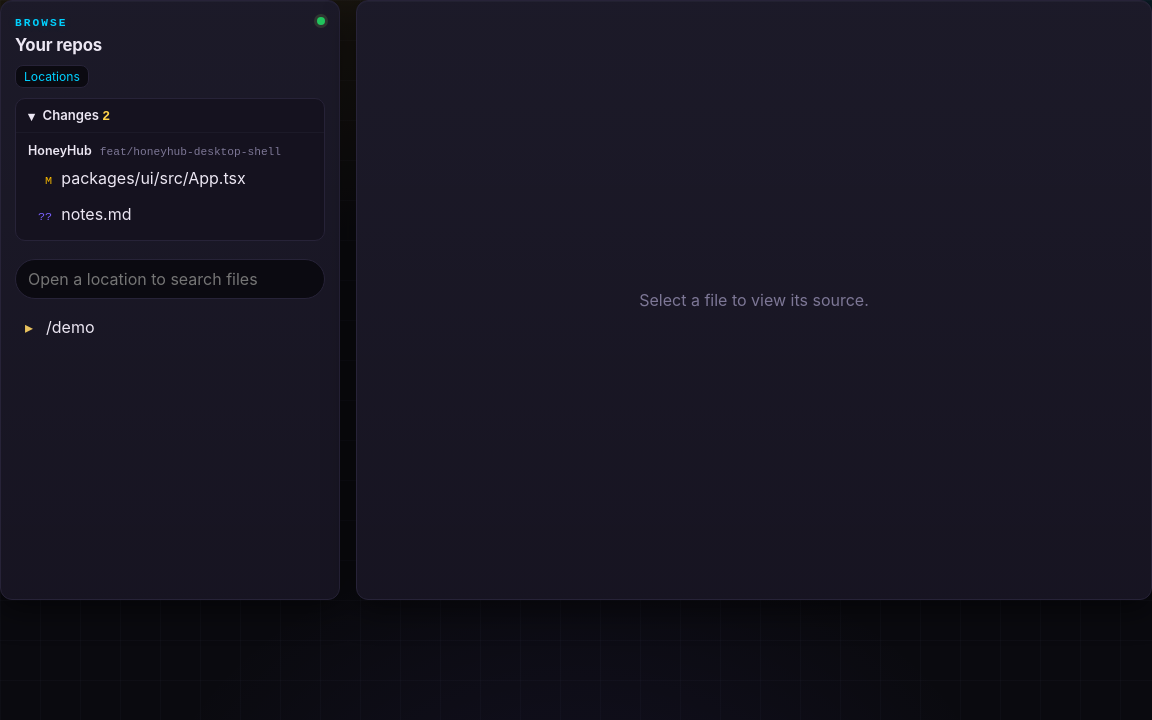
BrowseView › lists directory entries and opens a file from one
Note: Open the location, then a child folder (renderDirEntries: a dir button + a file button).
Click the button "▸ /demo".
click(70, 327)  # box [15,309,325,345]
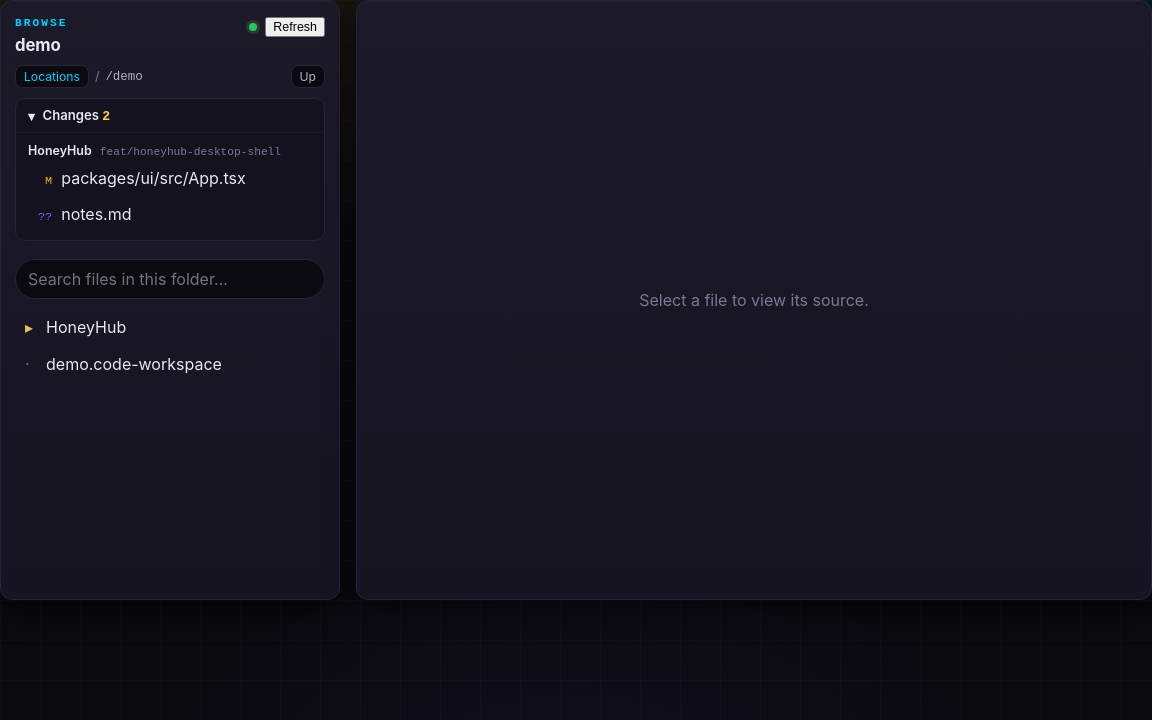
Click the button "▸ HoneyHub".
click(86, 327)  # box [15,309,325,345]
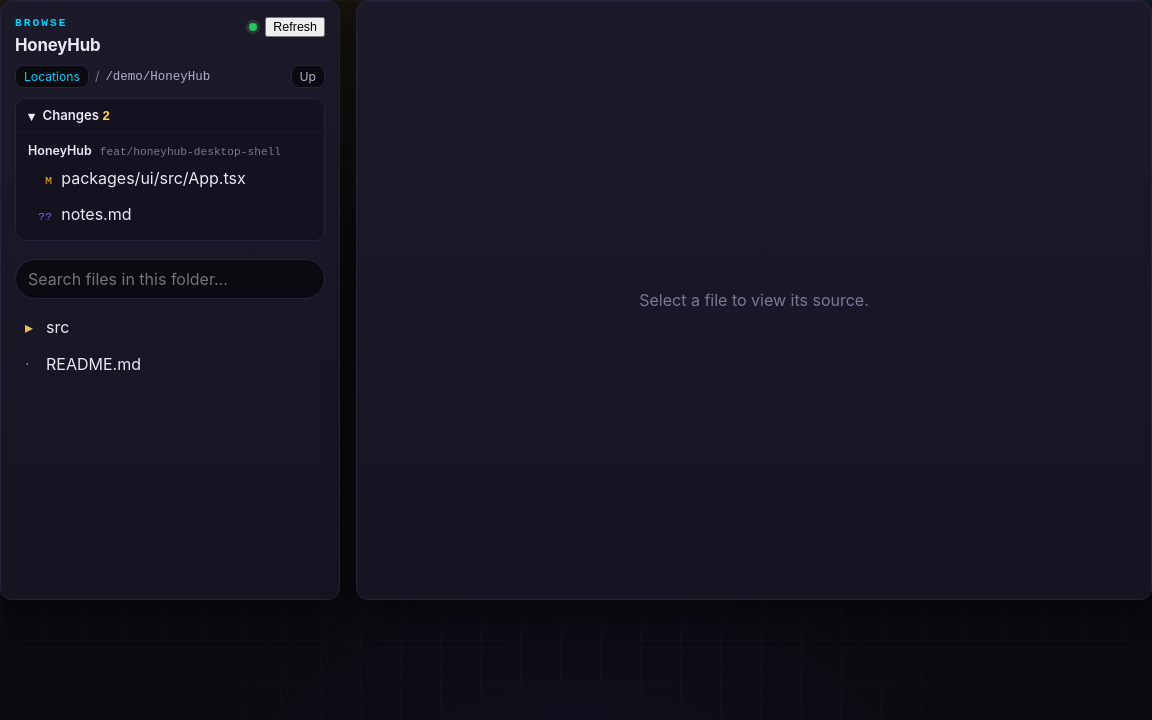
Now the button "· README.md" is shown
Note: Clicking a file entry routes through openFile and the viewer shows its content.
Click the button "· README.md".
click(94, 364)  # box [15,346,325,382]
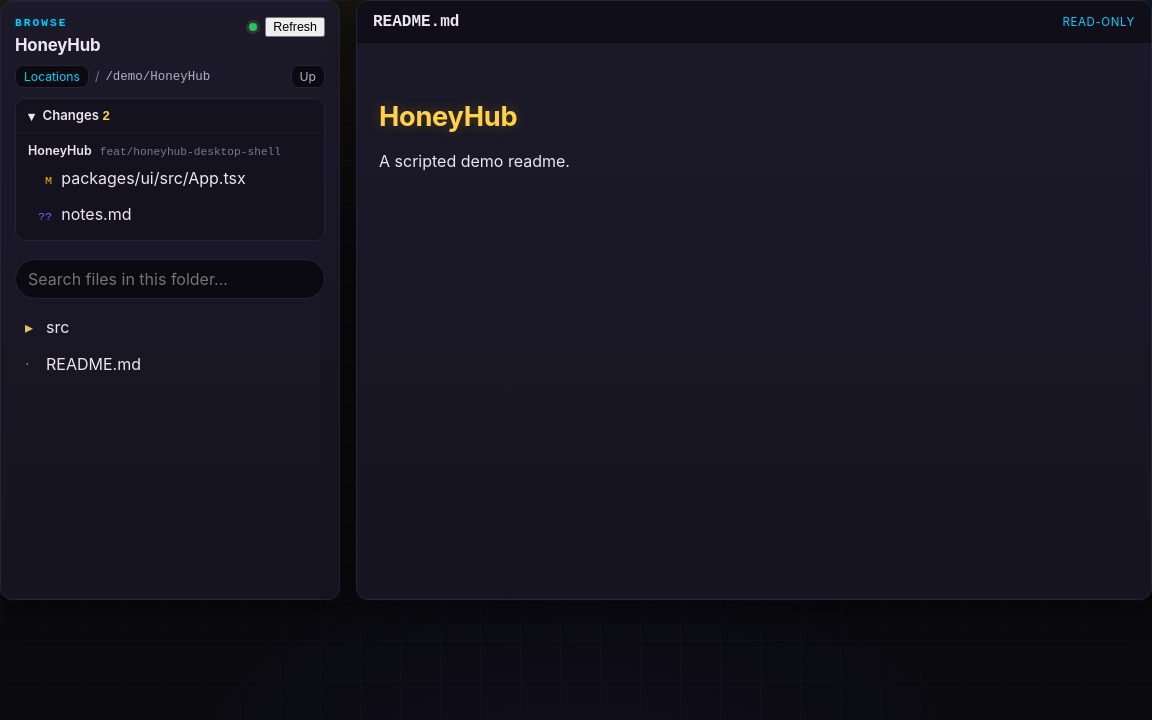
Now the text "A scripted demo readme." is shown, box [379,151,570,171]
